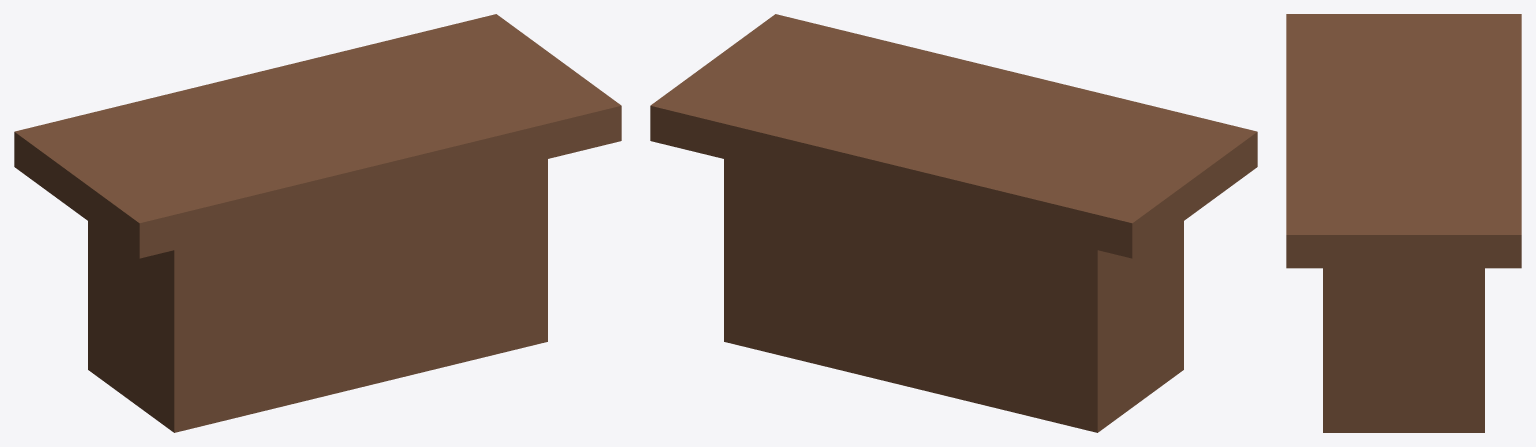
File: bh_souq_display_table_01_lod0.glb
3 renders of one model, left to right at view 1: azimuth 30°, elevation 25°; view 2: azimuth 150°, elevation 25°; view 3: azimuth 270°, elevation 25°, orthographic. The views are drawn at different scales.
Visible parts, largest first — view 1: bh_souq_display_table_01_base, bh_souq_display_table_01_top; view 2: bh_souq_display_table_01_base, bh_souq_display_table_01_top; view 3: bh_souq_display_table_01_top, bh_souq_display_table_01_base.
Part boxes in pixels (x1,y1,x2,y2): bh_souq_display_table_01_base: [88, 159, 547, 432]; bh_souq_display_table_01_top: [14, 14, 621, 258]; bh_souq_display_table_01_base: [724, 159, 1183, 432]; bh_souq_display_table_01_top: [650, 14, 1257, 258]; bh_souq_display_table_01_top: [1286, 14, 1521, 268]; bh_souq_display_table_01_base: [1323, 268, 1484, 432].
Bounding box in the file's own units: 2 × 0.94 × 0.9.
